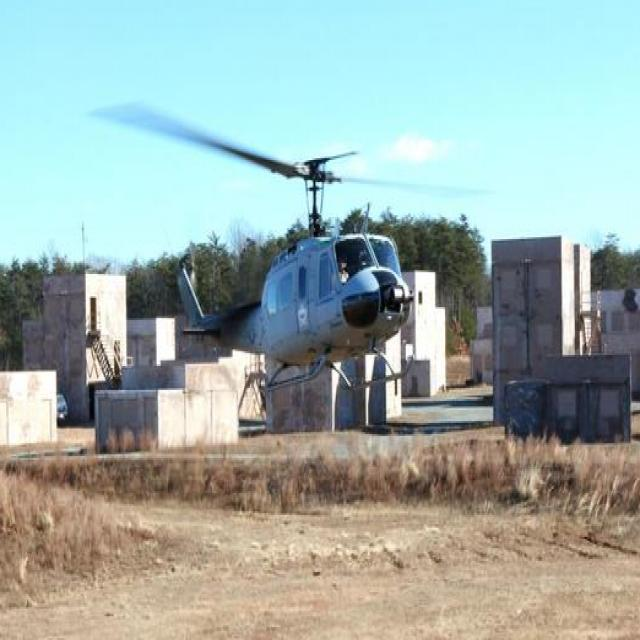helicopter: (106, 104, 434, 400)
